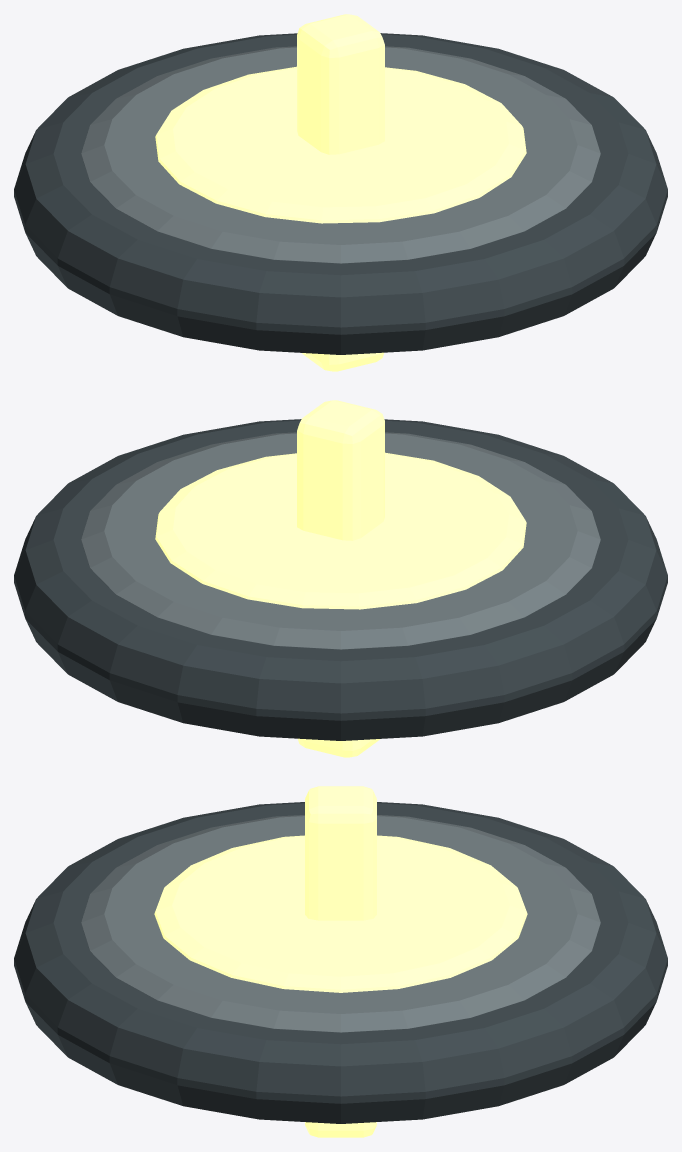
Rendered from EncryptedCredit_A.fbx.
The picture shows the model from 3 angles, top to bottom: view 1: azimuth 30°, elevation 25°; view 2: azimuth 150°, elevation 25°; view 3: azimuth 270°, elevation 25°; orthographic projection.
Visible parts, largest first — view 1: Credit Outer Ring, Credit Metal Rim, Credit Energy Core, Credit Cipher Vertical; view 2: Credit Outer Ring, Credit Metal Rim, Credit Energy Core, Credit Cipher Vertical; view 3: Credit Outer Ring, Credit Metal Rim, Credit Energy Core, Credit Cipher Vertical.
Boxes of the visible parts, x1,y1,x2,y2 form: Credit Outer Ring: (14,33,667,354); Credit Metal Rim: (81,46,600,263); Credit Energy Core: (155,66,526,223); Credit Cipher Vertical: (297,14,384,371); Credit Outer Ring: (14,419,667,740); Credit Metal Rim: (81,432,600,649); Credit Energy Core: (155,452,526,609); Credit Cipher Vertical: (297,400,384,757); Credit Outer Ring: (14,802,667,1123); Credit Metal Rim: (81,815,600,1032); Credit Energy Core: (154,835,527,992); Credit Cipher Vertical: (305,786,376,1137).
Size of the model in its own units: 0.68 by 0.38 by 0.68.
